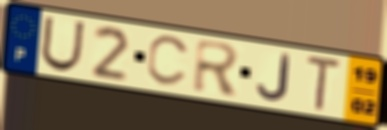2: (91, 25, 132, 82)
C: (145, 35, 194, 89)
J: (255, 52, 293, 104)
R: (191, 37, 242, 98)
T: (304, 53, 344, 113)
U: (38, 14, 88, 73)
